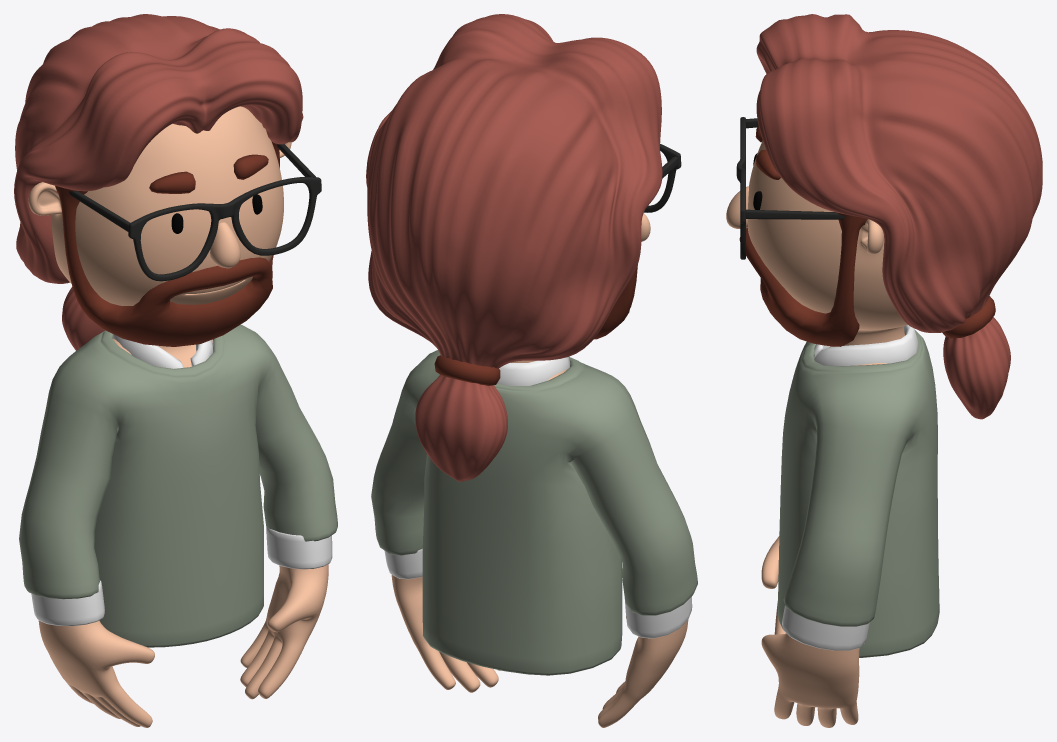
3 renders of one model, left to right at view 1: azimuth 30°, elevation 25°; view 2: azimuth 150°, elevation 25°; view 3: azimuth 270°, elevation 25°, orthographic. The views are drawn at different scales.
Visible parts, largest first — view 1: Jumper, body, Hair_4, Beard_4, eyeglass_4, Eyebrow.002, nose; view 2: Hair_4, Jumper, body, Beard_4, eyeglass_4; view 3: Hair_4, Jumper, body, Beard_4, eyeglass_4, nose.
Boxes of the visible parts, x1=… form: Jumper: x1=19, y1=324, x2=337, y2=647; body: x1=28, y1=106, x2=328, y2=727; Hair_4: x1=14, y1=14, x2=303, y2=350; Beard_4: x1=55, y1=142, x2=279, y2=346; eyeglass_4: x1=69, y1=144, x2=321, y2=281; Eyebrow.002: x1=149, y1=154, x2=268, y2=193; nose: x1=210, y1=222, x2=240, y2=268; Hair_4: x1=366, y1=14, x2=662, y2=481; Jumper: x1=371, y1=350, x2=697, y2=675; body: x1=391, y1=213, x2=688, y2=727; Beard_4: x1=594, y1=265, x2=637, y2=339; eyeglass_4: x1=644, y1=144, x2=681, y2=212; Hair_4: x1=756, y1=14, x2=1042, y2=419; Jumper: x1=778, y1=325, x2=939, y2=657; body: x1=748, y1=140, x2=907, y2=727; Beard_4: x1=739, y1=212, x2=867, y2=346; eyeglass_4: x1=736, y1=117, x2=844, y2=259; nose: x1=726, y1=186, x2=748, y2=228.
Size of the model in its own units: 6.38 by 13.36 by 5.84.
